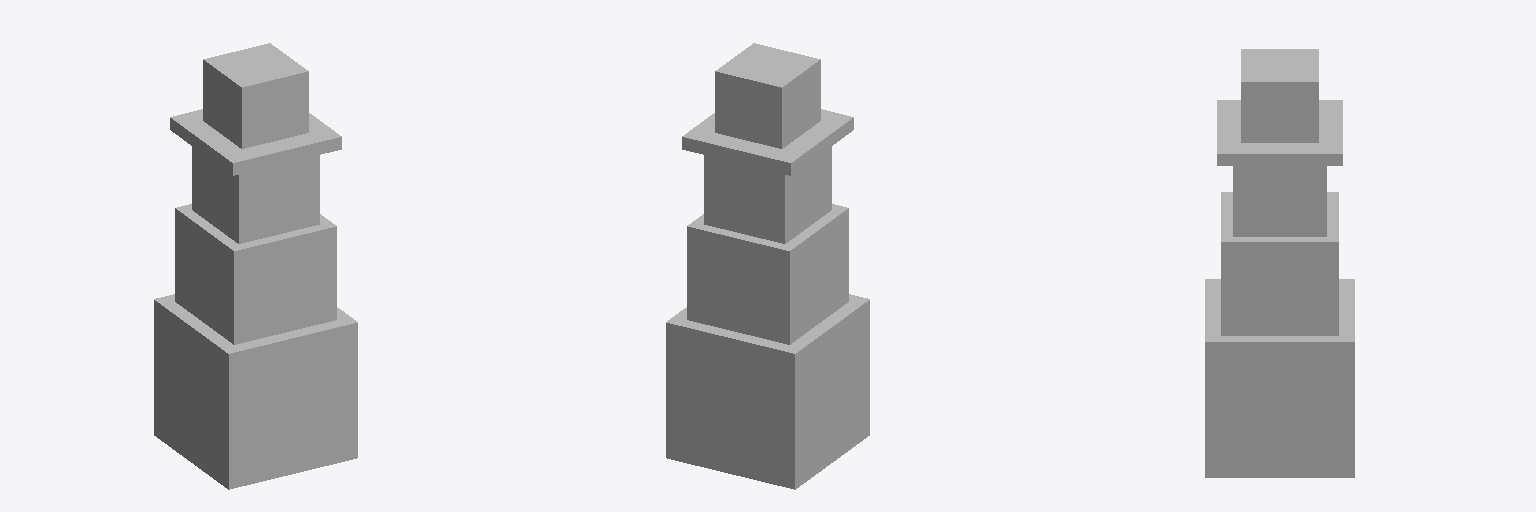
File: snowman.obj
3 views of the same model, side by side, from view 1: azimuth 30°, elevation 25°; view 2: azimuth 150°, elevation 25°; view 3: azimuth 270°, elevation 25° (orthographic).
Parts seen in each view (by area): view 1: Cube_Cube.001; view 2: Cube_Cube.001; view 3: Cube_Cube.001.
Boxes of the visible parts, box(x1,y1,x2,y2) form: Cube_Cube.001: box(154, 43, 357, 489); Cube_Cube.001: box(666, 43, 869, 489); Cube_Cube.001: box(1205, 49, 1354, 477).
Size of the model in its own units: 2 by 5.61 by 2.